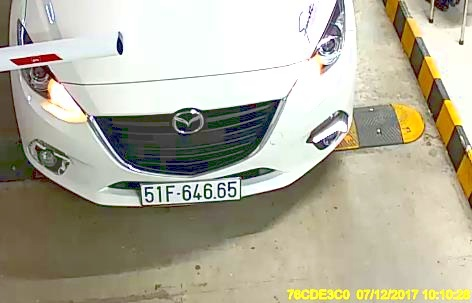plate: (136, 177, 242, 204)
